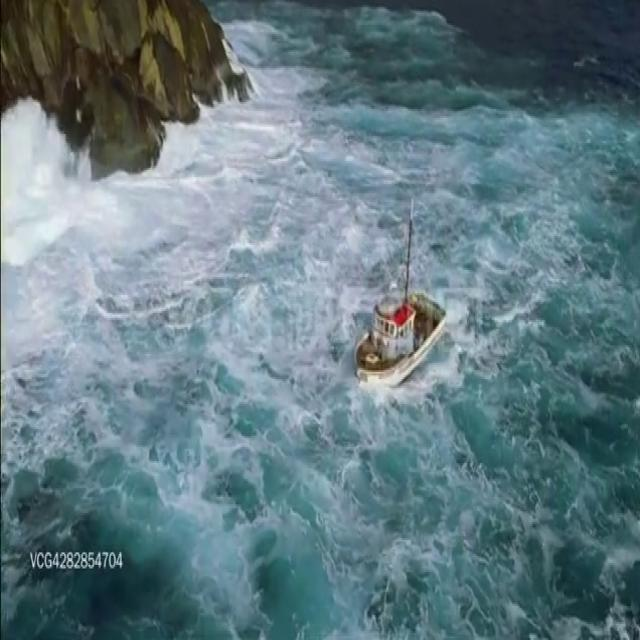houseboat: (351, 256, 446, 381)
